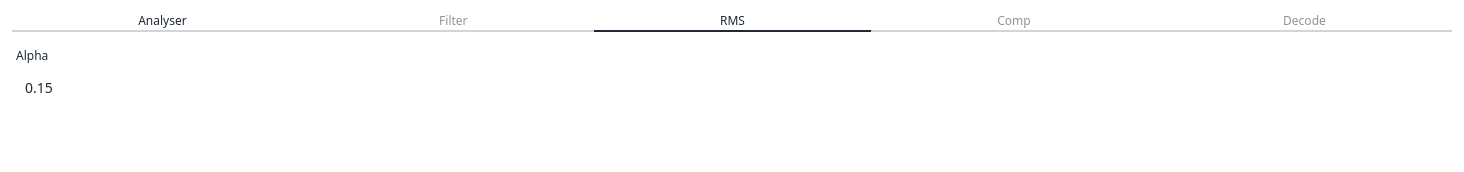
Scenario: can show Comp settings
This screenshot has width=1464, height=172.
Click the button "Comp" at (1014, 22), box 871,12 -> 1157,32
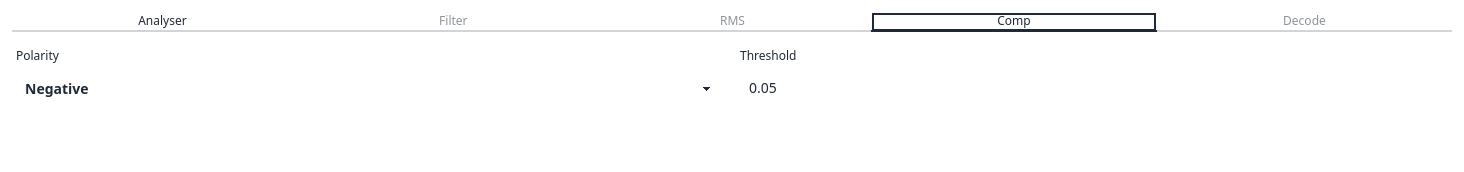
Result: the text "Polarity" is shown at 16,47 -> 59,64
